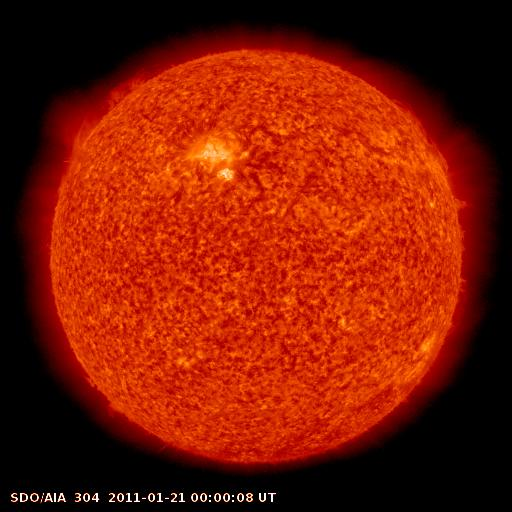prominence: (57, 62, 150, 160), (389, 93, 460, 178), (441, 183, 480, 225)
